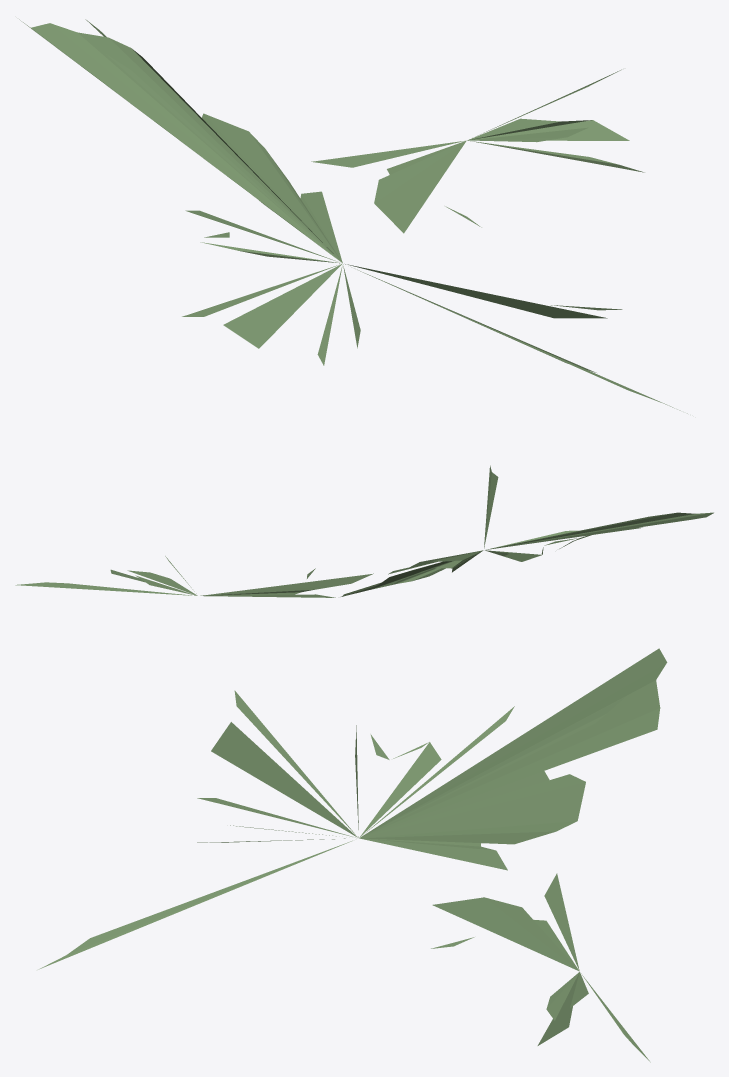
Rendered from c_1667_17815_parks.glb.
3 renders of one model, top to bottom at view 1: azimuth 30°, elevation 25°; view 2: azimuth 150°, elevation 25°; view 3: azimuth 270°, elevation 25°, orthographic. The views are drawn at different scales.
Visible parts, largest first — view 1: geometry_0; view 2: geometry_0; view 3: geometry_0.
Part boxes in pixels (x1,y1,x2,y2): geometry_0: [19, 19, 687, 413]; geometry_0: [15, 465, 713, 597]; geometry_0: [38, 648, 667, 1062].
Bounding box in the file's own units: 426 × 129 × 429.
